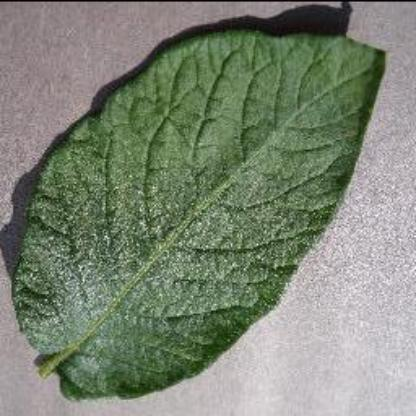Healthy-plant: (15, 20, 396, 406)
